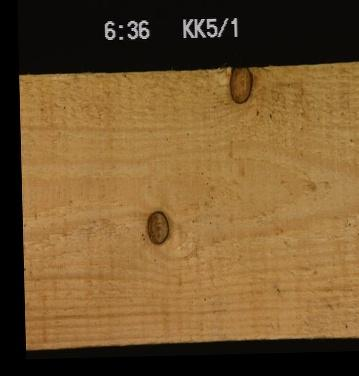dry_knot: (145, 210, 169, 245)
edge_knot: (226, 65, 253, 103)
